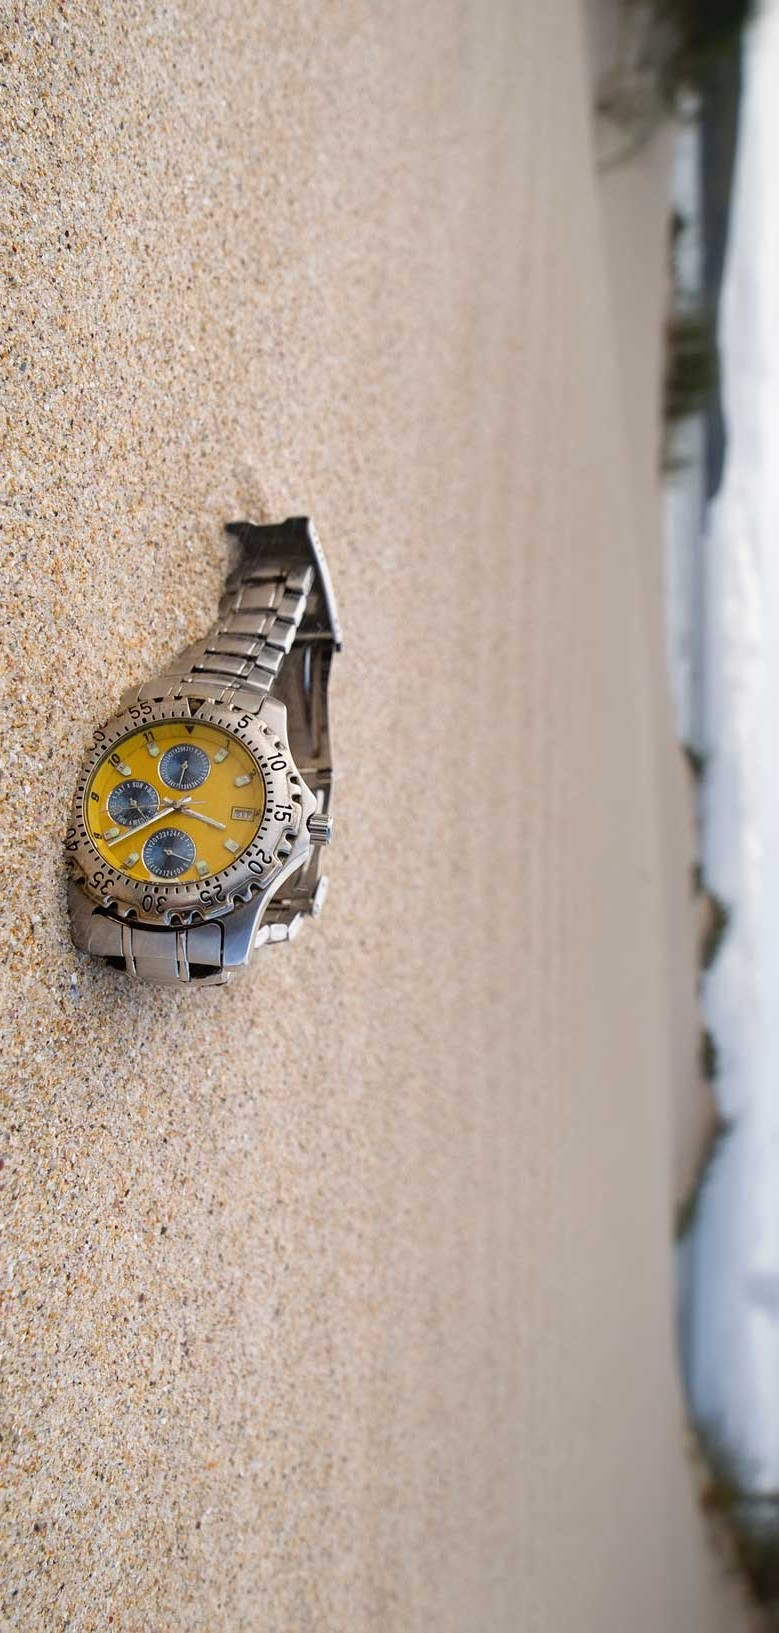clock: (62, 697, 297, 910)
